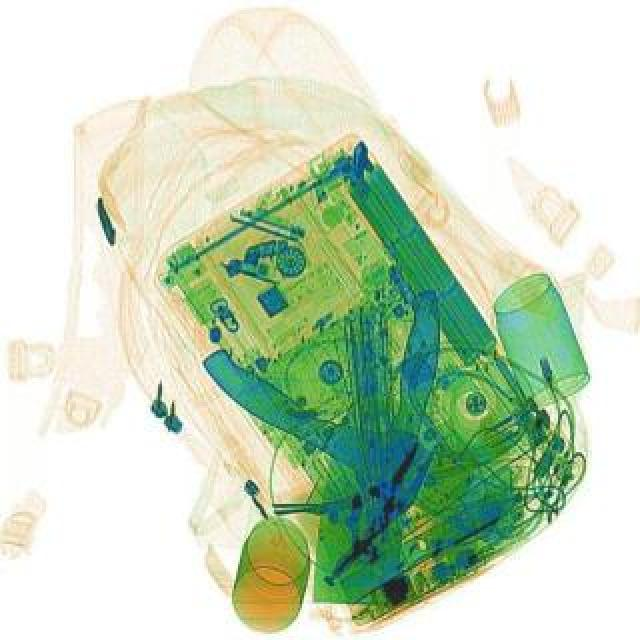knife: (194, 336, 512, 544), (312, 282, 454, 608)
